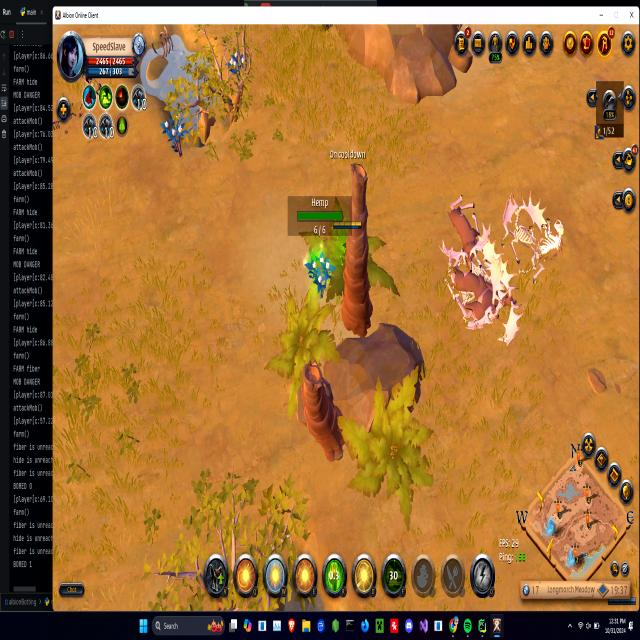hide: (305, 246, 334, 295), (162, 112, 187, 154), (228, 47, 248, 80)
mob: (444, 258, 518, 338), (441, 192, 492, 265)
